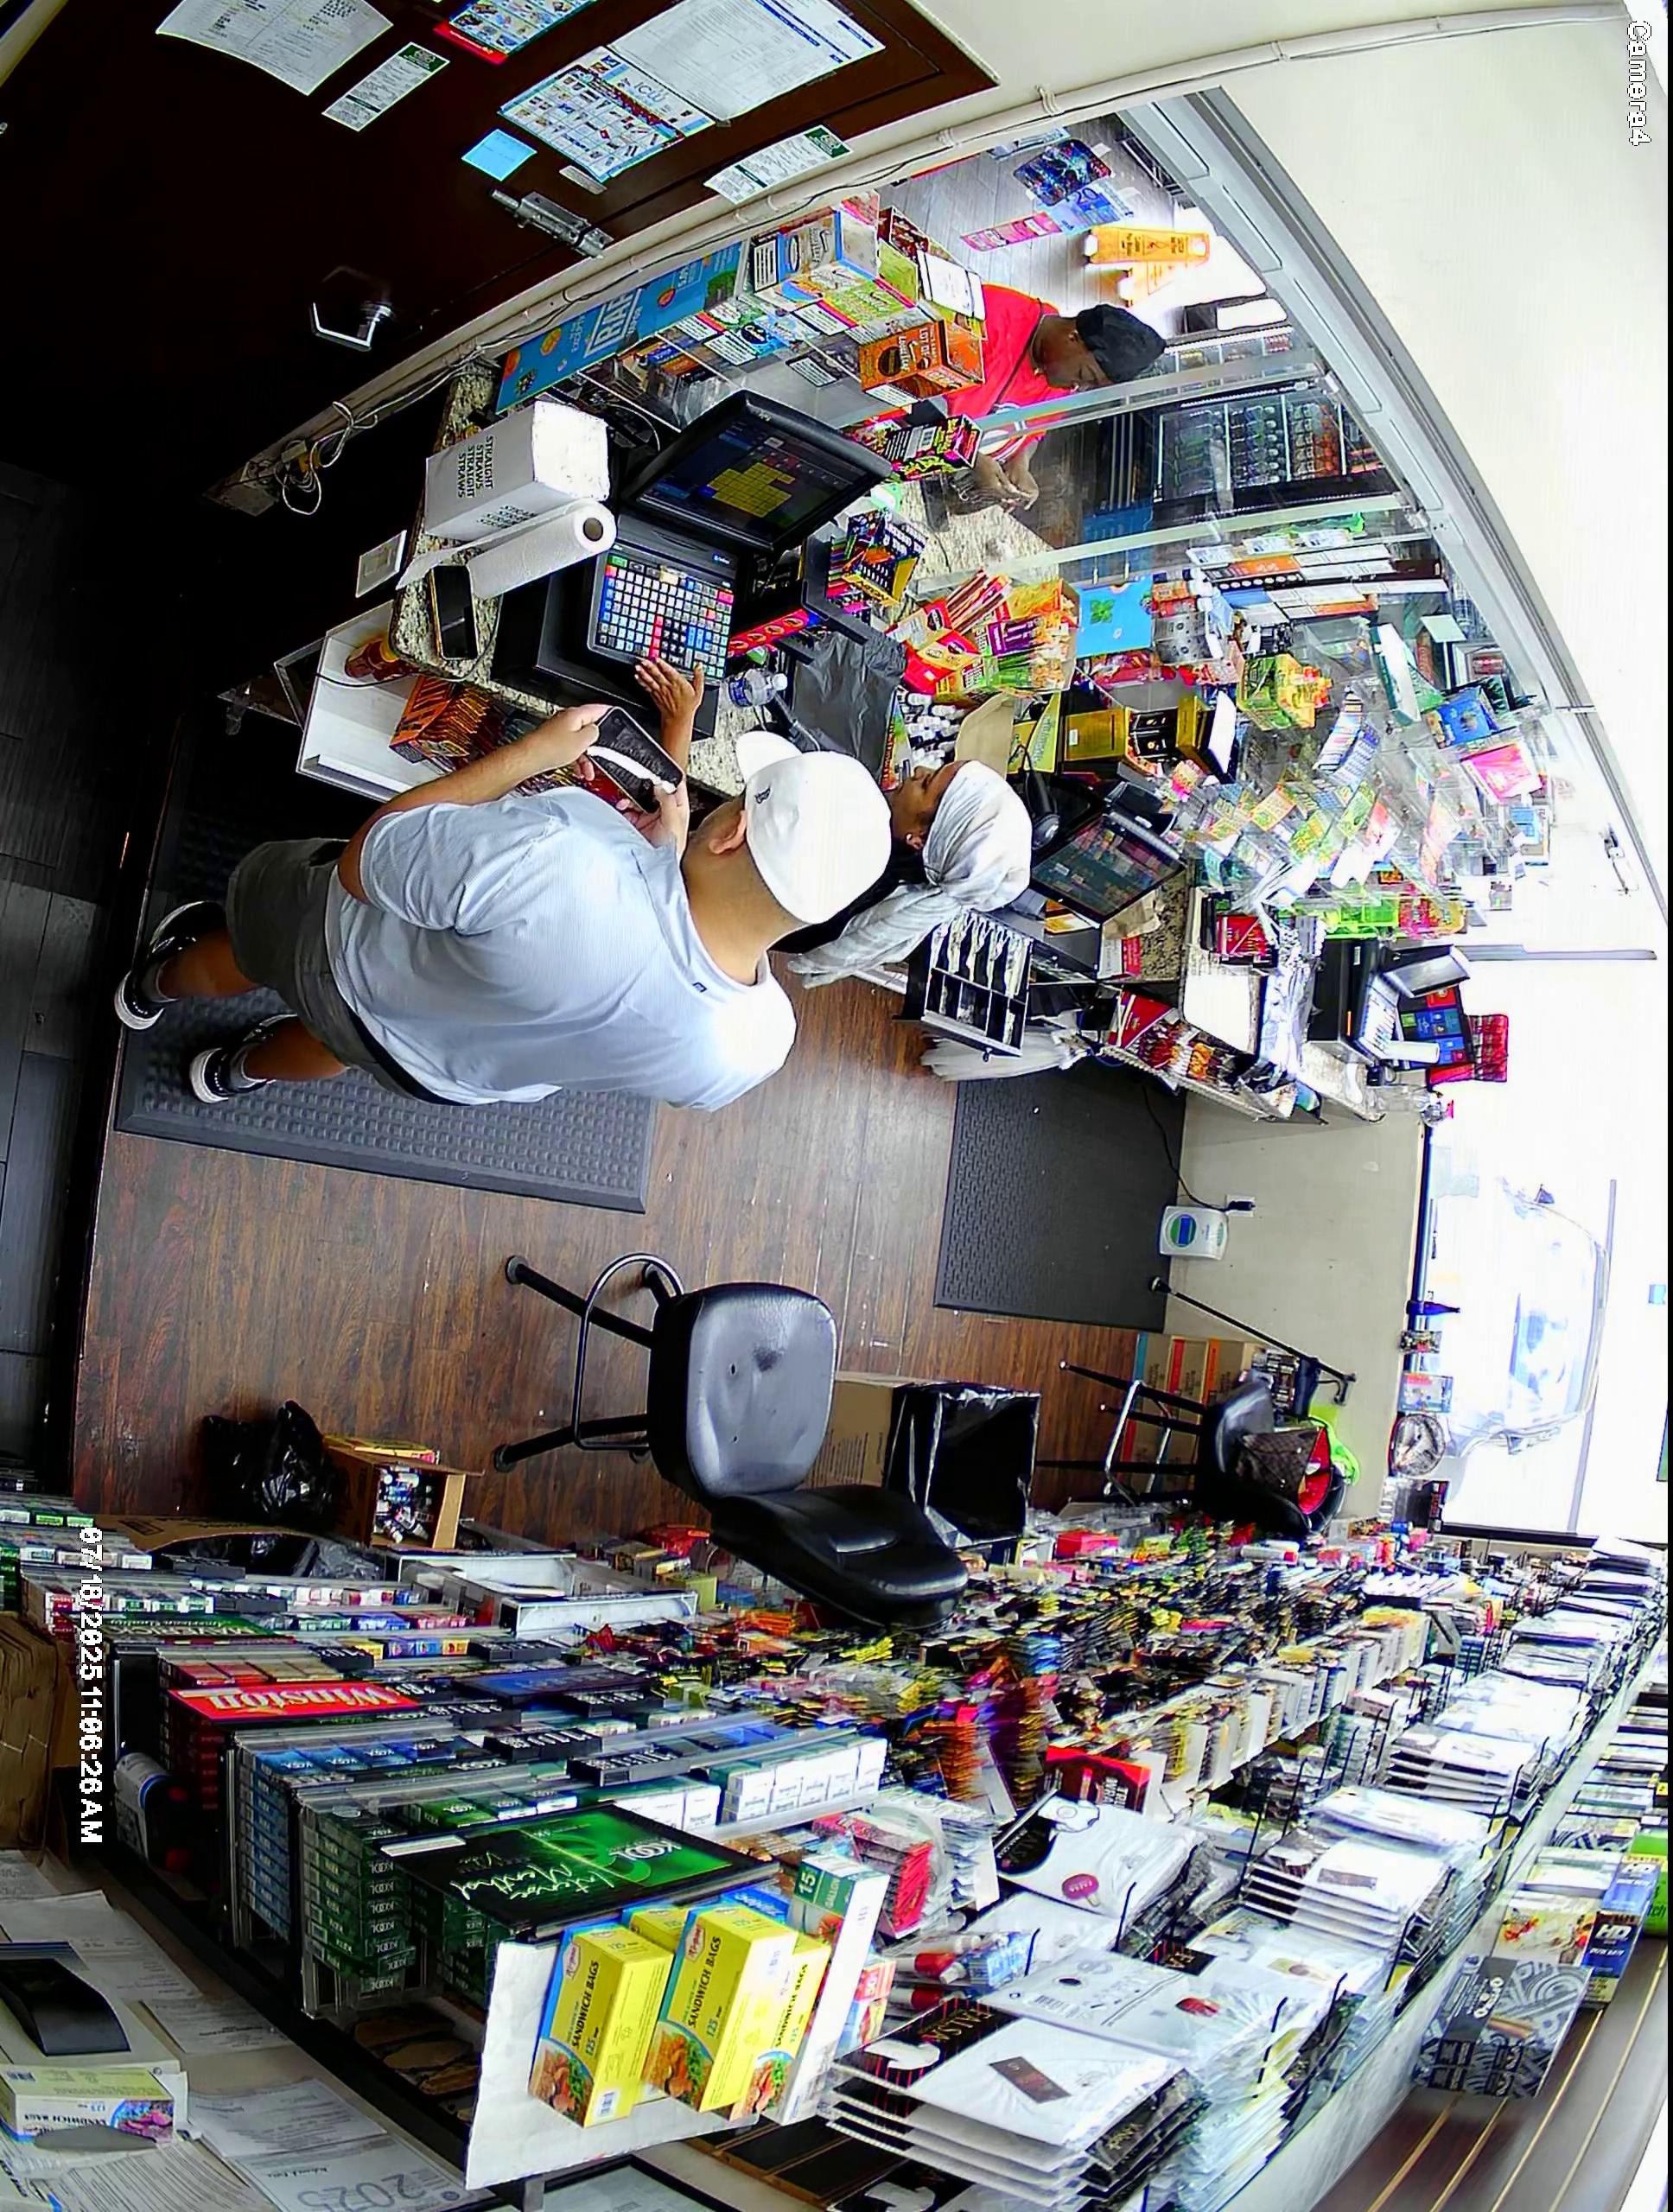phone: (578, 696, 691, 824)
